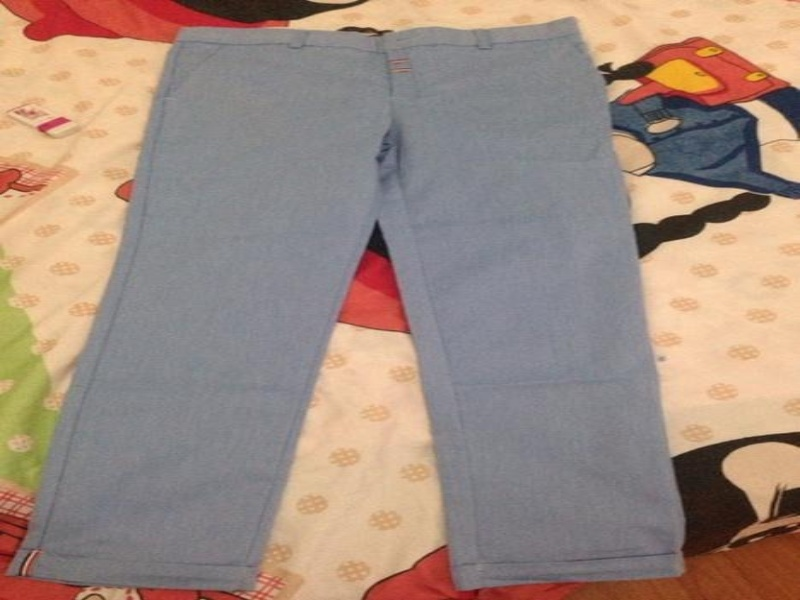trousers: (0, 16, 694, 596)
